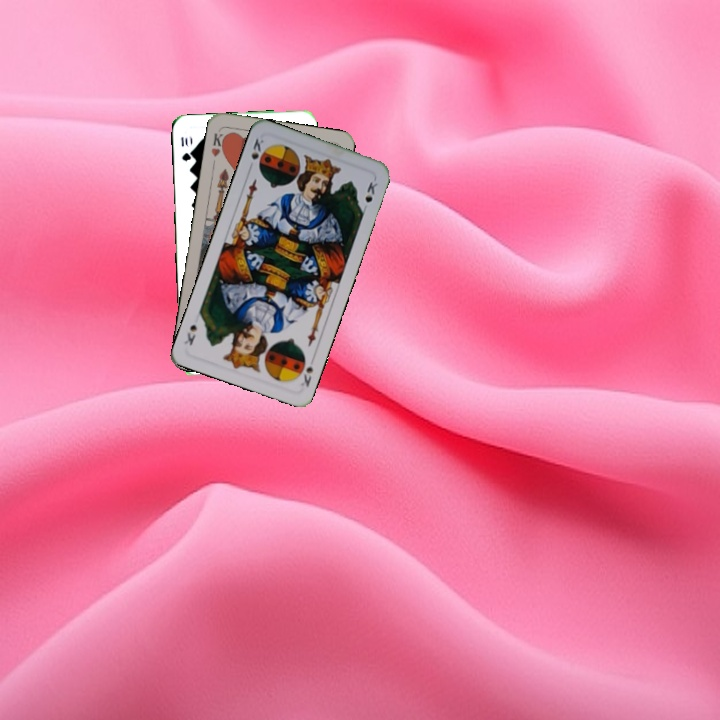G10: (177, 133, 193, 164)
HK: (207, 127, 229, 159)
SK: (245, 134, 267, 173), (297, 361, 316, 390)
